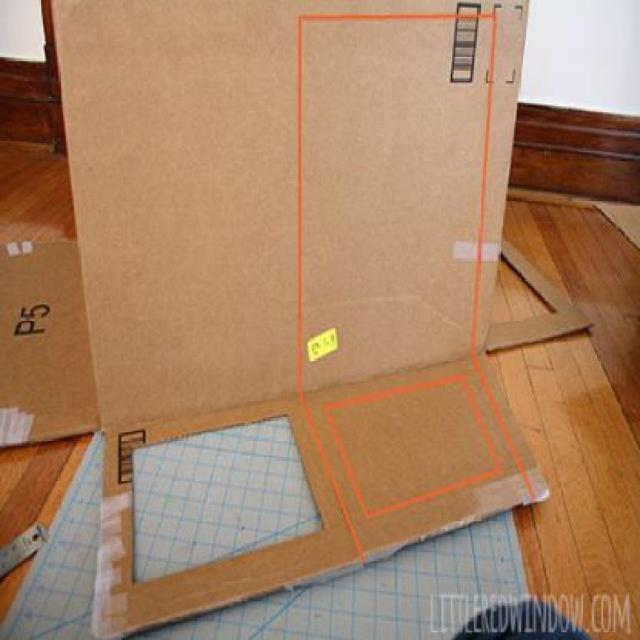box: (0, 0, 580, 526)
